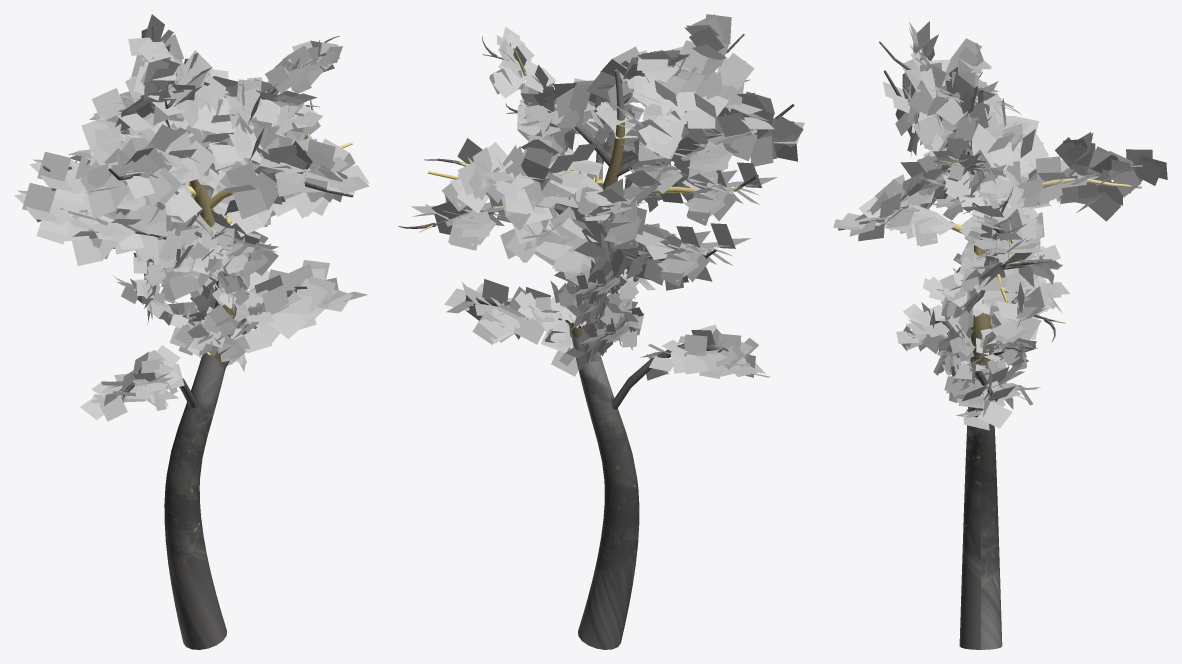
Rendered from arbre_orange_pivot2.fbx.
3 renders of one model, left to right at view 1: azimuth 30°, elevation 25°; view 2: azimuth 150°, elevation 25°; view 3: azimuth 270°, elevation 25°, orthographic. The views are drawn at different scales.
Parts seen in each view (by area): view 1: arbre_orange_2_plane; view 2: arbre_orange_2_plane; view 3: arbre_orange_2_plane.
Part boxes in pixels (box(x1,y1,x2,y2)): arbre_orange_2_plane: box(14, 14, 369, 649); arbre_orange_2_plane: box(398, 14, 804, 649); arbre_orange_2_plane: box(833, 21, 1167, 649).
Bounding box in the file's own units: 23.8 × 41.75 × 21.32.
